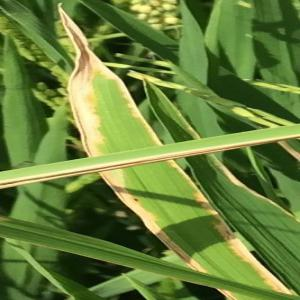Bacterial_Blight: (64, 43, 133, 155)
